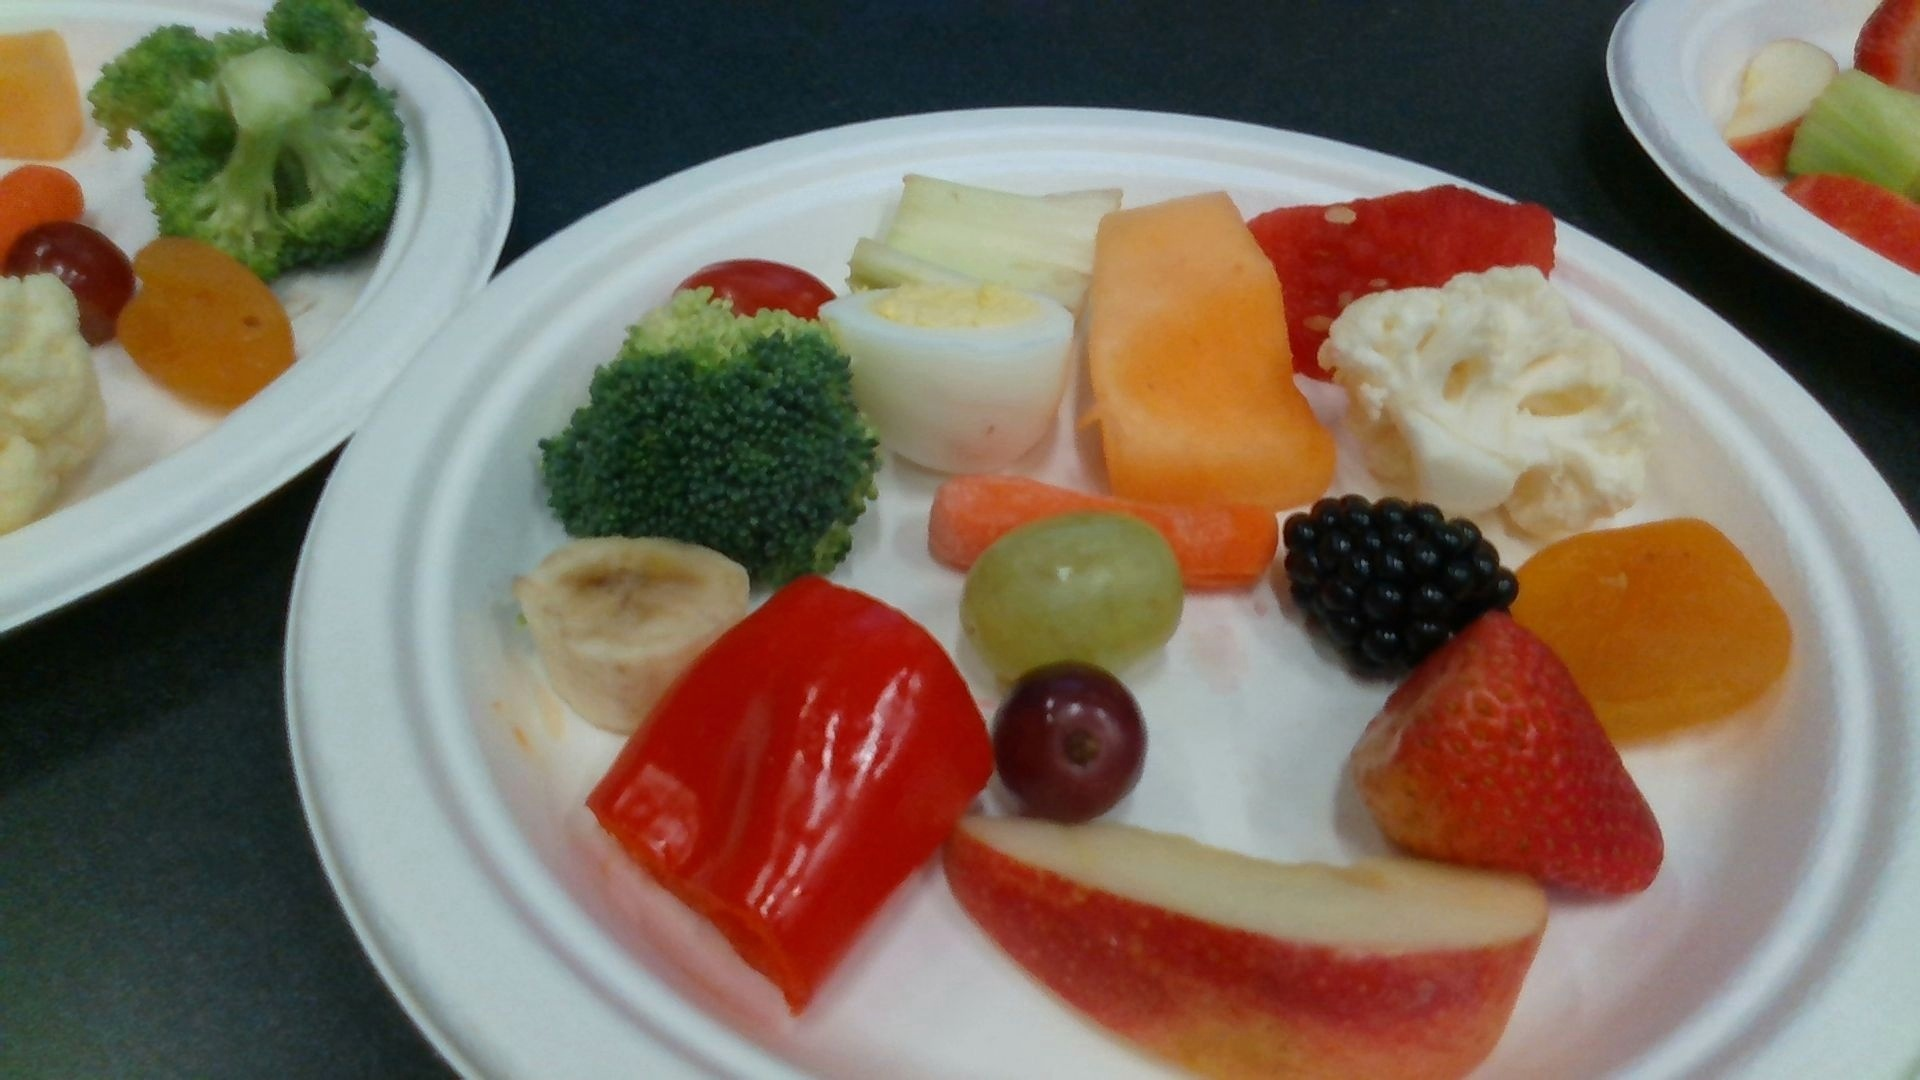apple: (949, 818, 1543, 1080)
apricot: (1513, 521, 1789, 742)
banana: (524, 541, 750, 725)
bell_pepper: (589, 578, 989, 1007)
blackberry: (1284, 502, 1516, 665)
broccoli: (545, 298, 877, 582)
cantalope: (1095, 193, 1338, 500)
carrot: (934, 473, 1276, 588)
cauliflower: (1320, 268, 1655, 535)
celery: (851, 175, 1120, 303)
egg: (818, 290, 1072, 465)
grape_green: (965, 516, 1185, 669)
grape_purple: (994, 665, 1149, 818)
melon: (1247, 190, 1553, 381)
strawberry: (1346, 615, 1664, 893)
